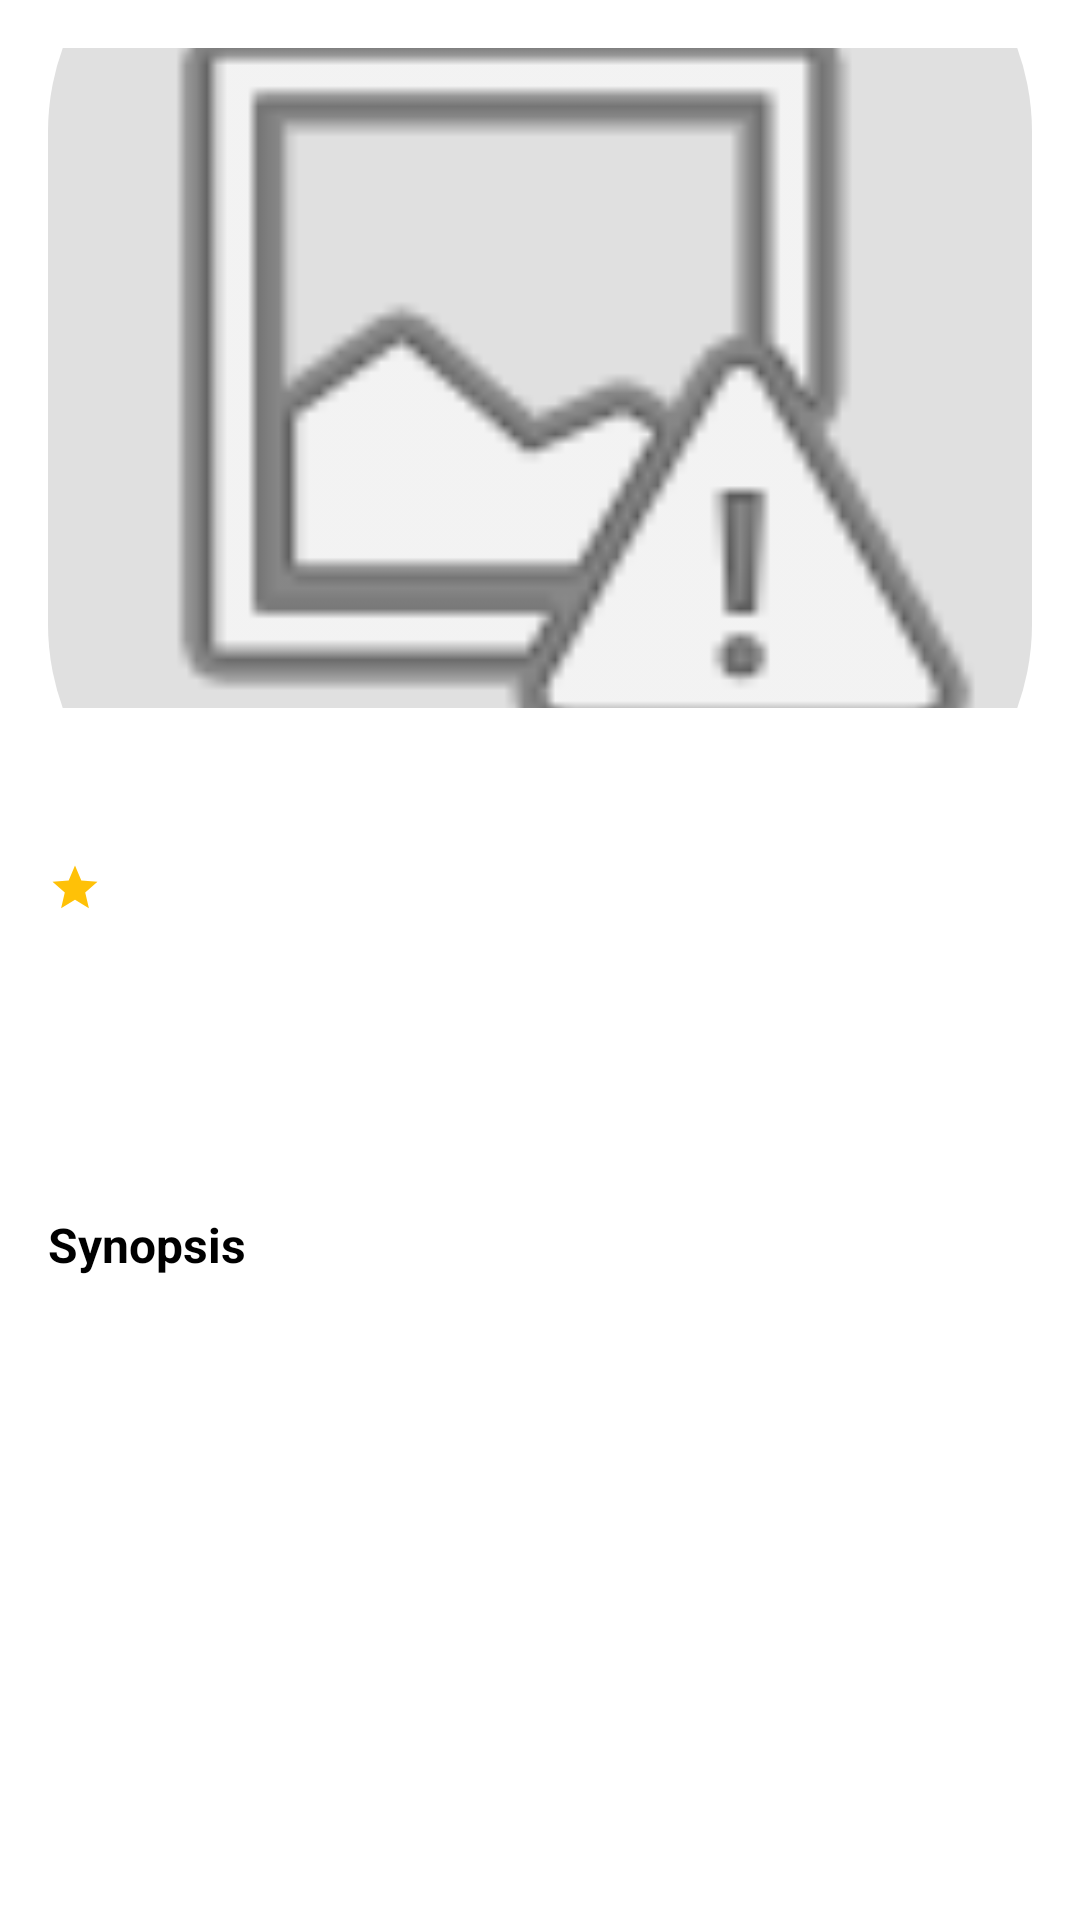

Where to tap for icons on this 1080*1920 app screen, as (x=x, y=y):
star: (x=75, y=887)
